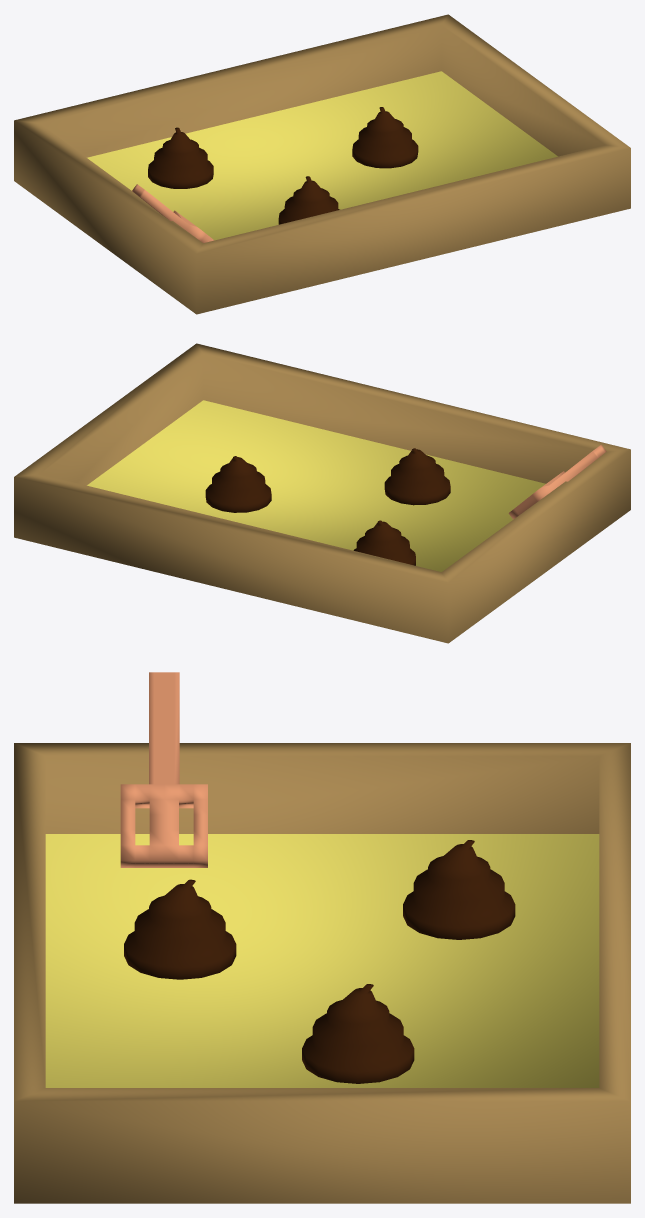
Rendered from DirtySandBox.fbx.
3 views of the same model, one above another, from view 1: azimuth 30°, elevation 25°; view 2: azimuth 150°, elevation 25°; view 3: azimuth 270°, elevation 25° (orthographic). The views are drawn at different scales.
Parts seen in each view (by area): view 1: Sandbox Dirty; view 2: Sandbox Dirty; view 3: Sandbox Dirty.
Boxes of the visible parts, x1,y1,x2,y2 form: Sandbox Dirty: (14, 14, 630, 314); Sandbox Dirty: (14, 343, 630, 643); Sandbox Dirty: (14, 672, 630, 1203).
Bounding box in the file's own units: 162 × 33.44 × 114.
